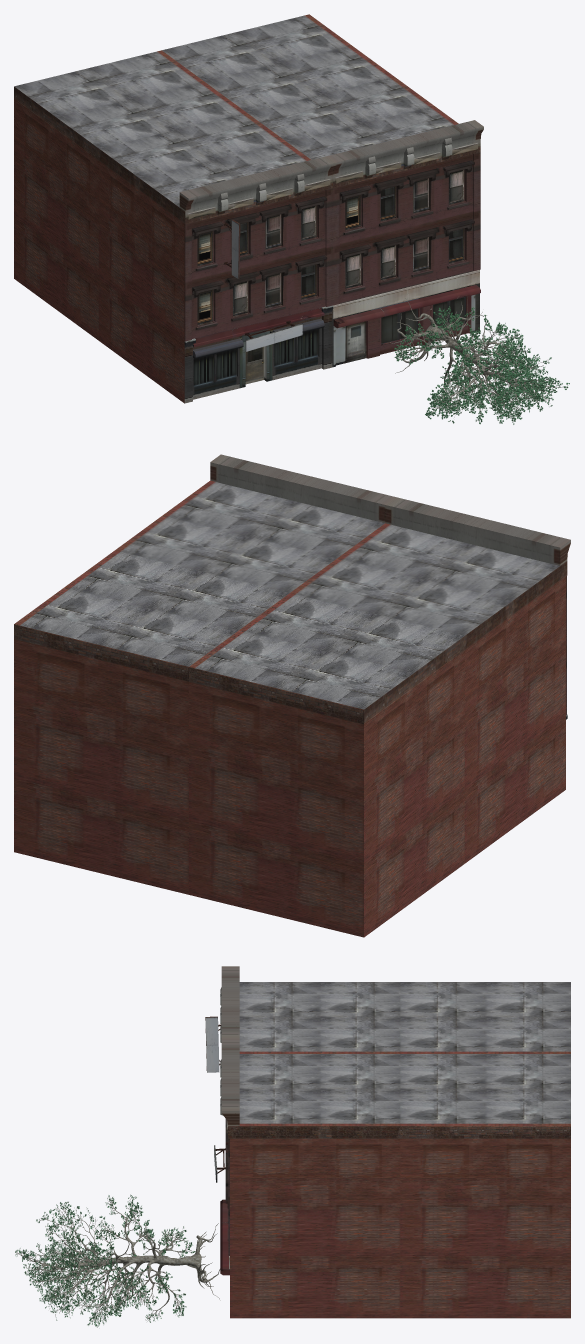
Rendered from Building3.glb.
The picture shows the model from 3 angles, top to bottom: view 1: azimuth 30°, elevation 25°; view 2: azimuth 150°, elevation 25°; view 3: azimuth 270°, elevation 25°; orthographic projection. The views are drawn at different scales.
Visible parts, largest first — view 1: Bodhi Tree_Bark_Mat_0.001; view 2: Bodhi Tree_Bark_Mat_0.001; view 3: Bodhi Tree_Bark_Mat_0.001.
Part boxes in pixels (x1,y1,x2,y2): Bodhi Tree_Bark_Mat_0.001: (14,14,569,424); Bodhi Tree_Bark_Mat_0.001: (14,454,570,937); Bodhi Tree_Bark_Mat_0.001: (15,966,570,1327).
Bounding box in the file's own units: 20.2 × 15.87 × 32.65.
4 materials, 4 textured.
